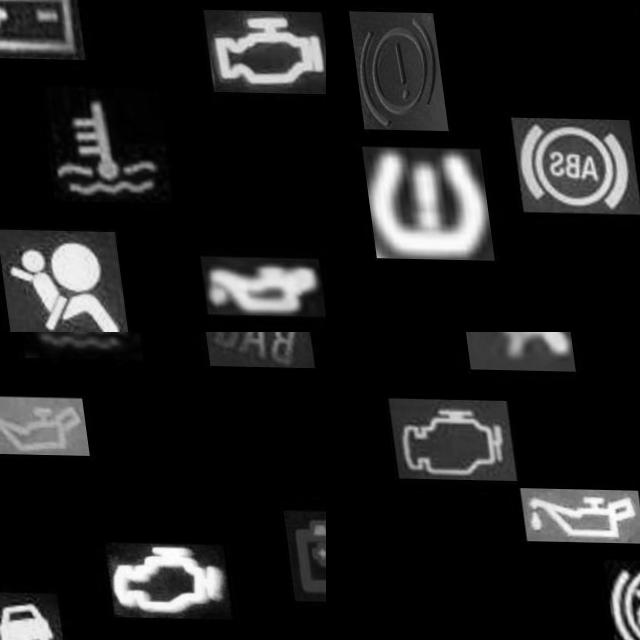Engine cooling system: (35, 86, 165, 203), (9, 332, 138, 358)
